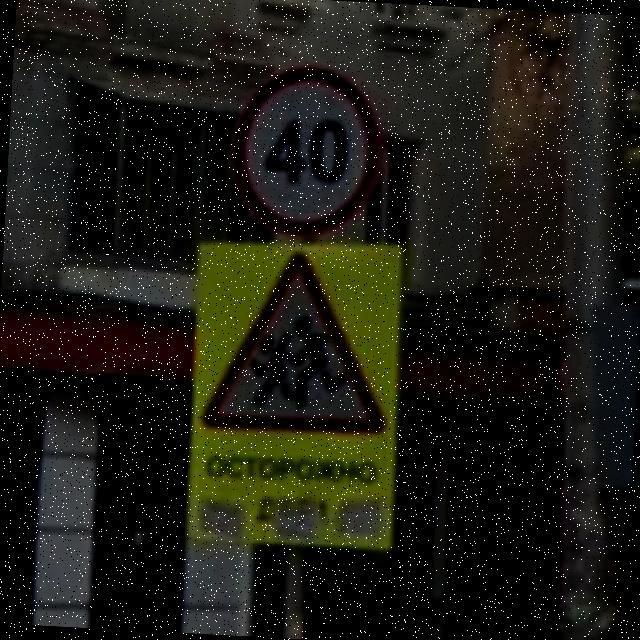Dzieci: (202, 247, 396, 438)
Ograniczenie predkosci do 40: (226, 61, 390, 239)
